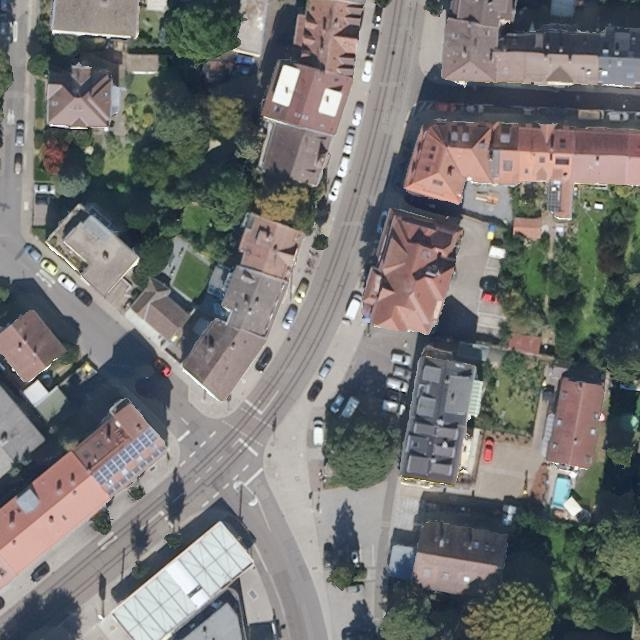PV: (91, 426, 161, 489), (103, 441, 171, 501)
